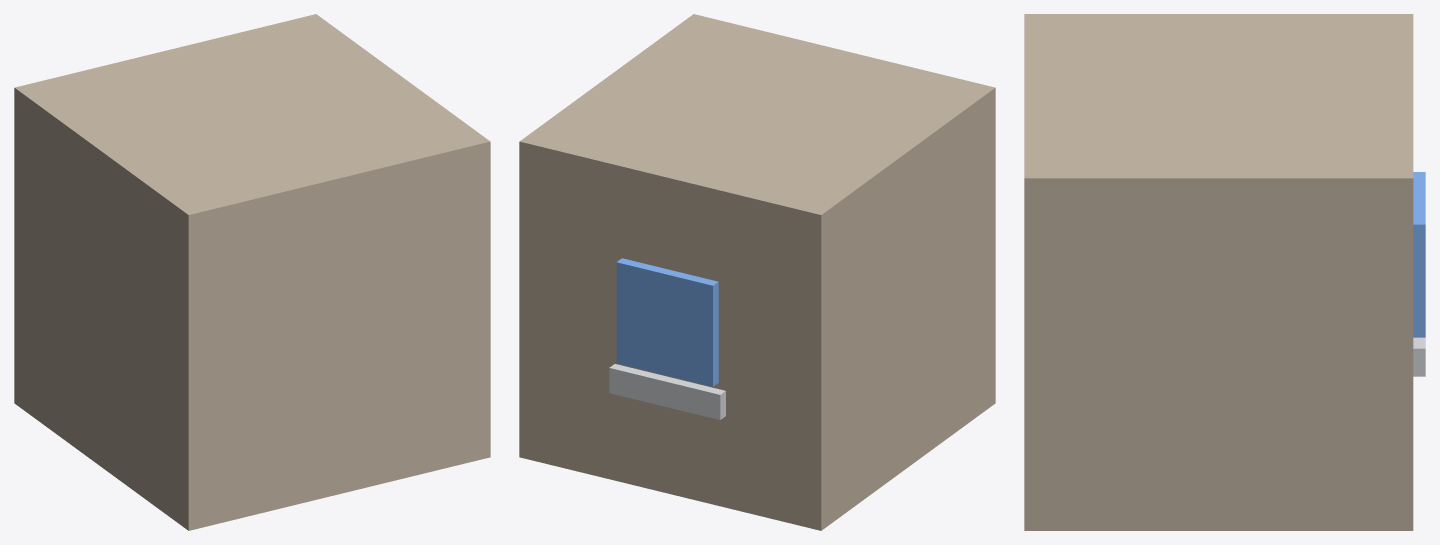
The model's file is mail_pkg_s.glb.
3 views of the same model, side by side, from view 1: azimuth 30°, elevation 25°; view 2: azimuth 150°, elevation 25°; view 3: azimuth 270°, elevation 25° (orthographic). The views are drawn at different scales.
Parts seen in each view (by area): view 1: mail_pkg_s; view 2: mail_pkg_s; view 3: mail_pkg_s.
Part boxes in pixels (x1,y1,x2,y2): mail_pkg_s: (14, 14, 490, 530); mail_pkg_s: (519, 14, 995, 530); mail_pkg_s: (1024, 14, 1425, 530).
Size of the model in its own units: 0.25 by 0.25 by 0.258.
